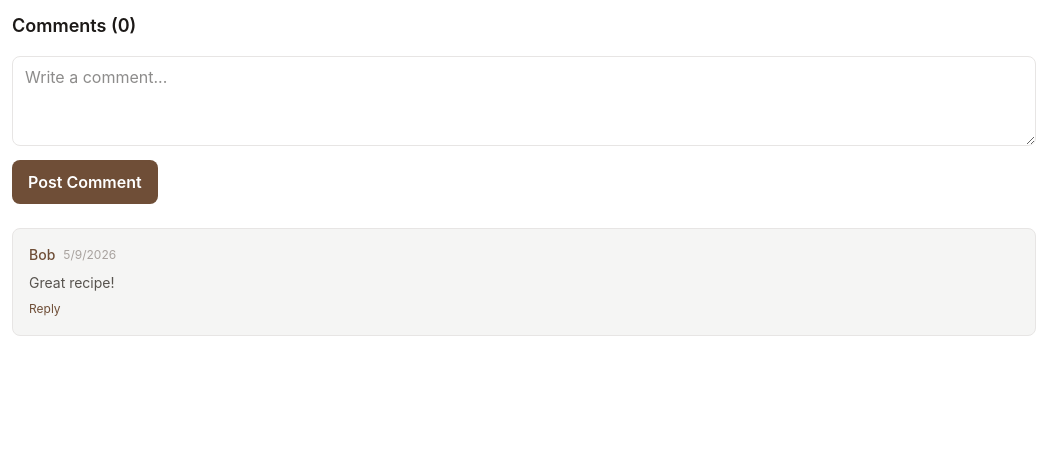
Test: CommentSection — Reply form › shows reply optimistically after successful submit
The width and height of the screenshot is (1048, 463).
Click the button "Reply": x=45, y=309 [29,301,61,317]
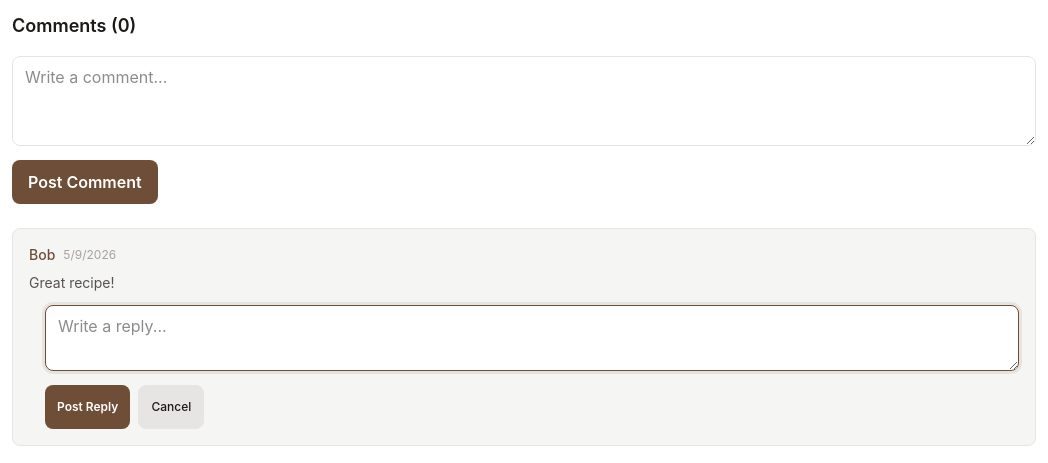
In the text box with placeholder "Write a reply...": x=532, y=338 [45,305,1019,371], type "Nice one!"
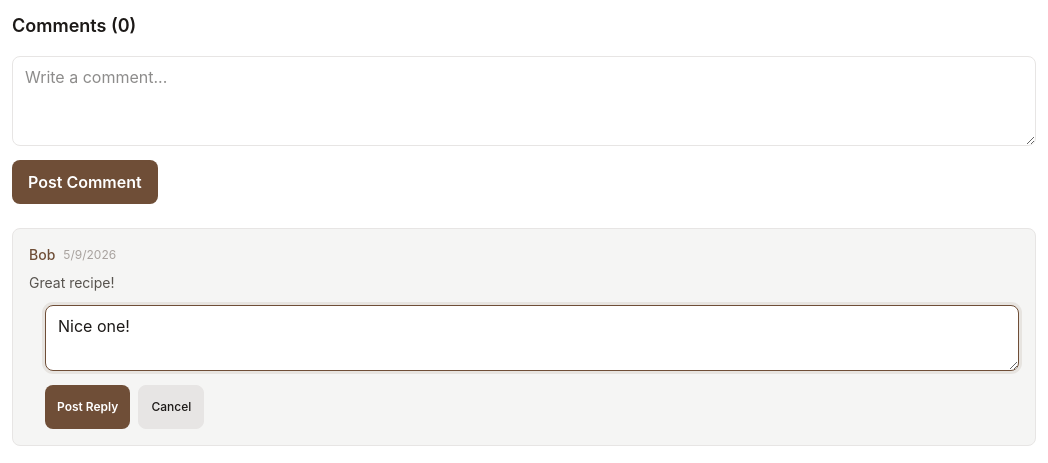
Click the button "Post Reply": x=88, y=407 [45,385,130,429]
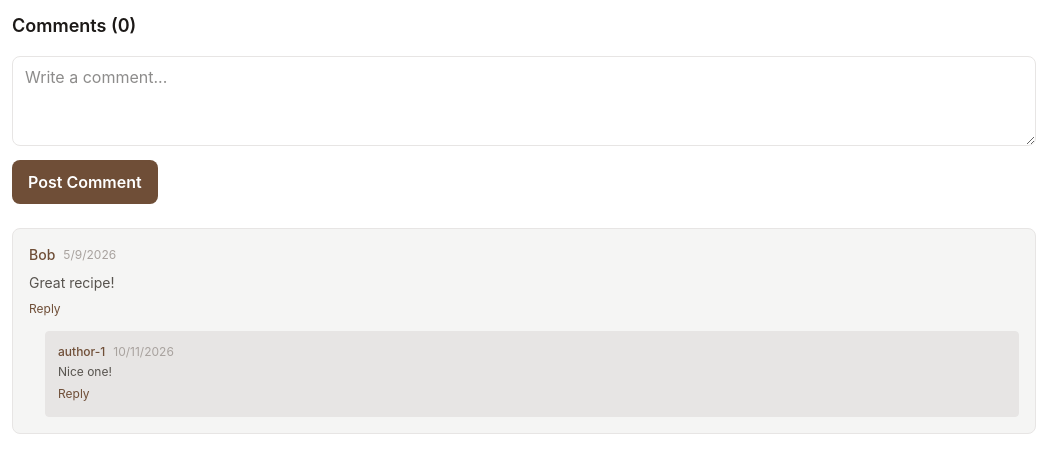
Expected: the field with placeholder "Write a reply..." is not shown
Now the text "Nice one!" is shown, box [58,364,112,379]
